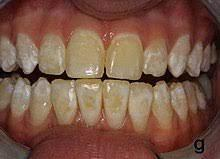LL1BC_healthy: (10, 77, 31, 117)
LL1BC_mdecay: (171, 82, 190, 121)
LLCI_mdecay: (102, 79, 129, 130)
LLC_mdecay: (153, 80, 174, 129)
LLLI_healthy: (129, 82, 153, 134)
LRCI_mdecay: (75, 80, 102, 126)
LRC_healthy: (30, 78, 51, 126)
LRLI_mdecay: (51, 80, 76, 126)
UL1BC_mdecay: (1, 34, 16, 73)
ULCI_healthy: (105, 31, 144, 80)
ULC_mdecay: (169, 35, 191, 76)
ULLI_mdecay: (143, 39, 169, 77)
UR1BC_mdecay: (188, 37, 201, 77)
URCI_healthy: (66, 31, 105, 78)
URC_mdecay: (16, 33, 38, 74)
URLI_healthy: (39, 33, 65, 75)
